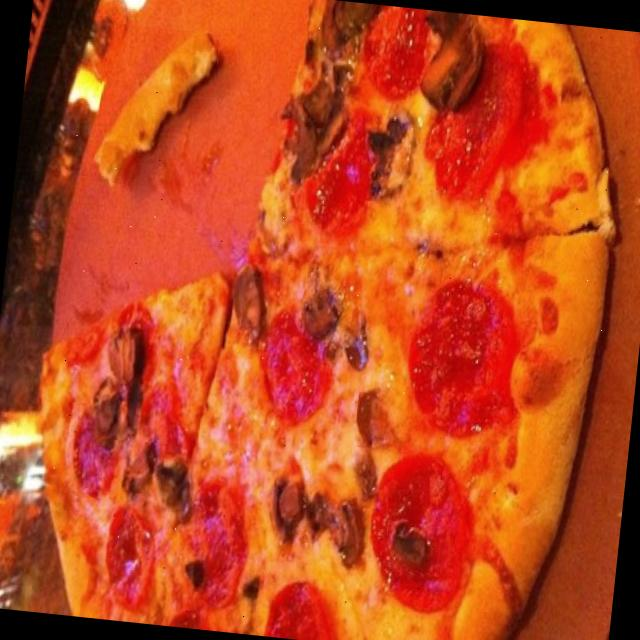mushrooms: (266, 458, 374, 571), (88, 327, 150, 442), (357, 98, 422, 203), (412, 9, 482, 105), (286, 79, 344, 171), (112, 438, 170, 522), (148, 458, 202, 534), (222, 270, 272, 348), (299, 288, 349, 358), (382, 520, 442, 576), (318, 0, 379, 54), (336, 310, 381, 376), (352, 391, 387, 449), (236, 572, 269, 614), (177, 554, 210, 594)
pepperoni: (361, 443, 482, 624), (416, 38, 530, 218), (394, 280, 516, 444), (296, 82, 388, 248), (256, 304, 336, 432), (180, 478, 254, 604), (355, 3, 436, 111), (92, 507, 166, 618), (62, 402, 127, 499), (130, 380, 191, 469), (104, 304, 162, 391), (262, 583, 341, 640)
pizza: (39, 0, 613, 640), (93, 33, 216, 182)
